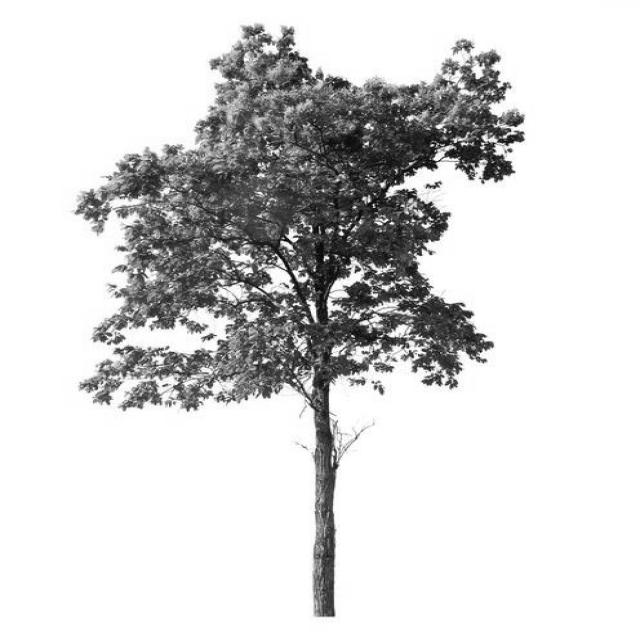Tree: (78, 25, 525, 617)
